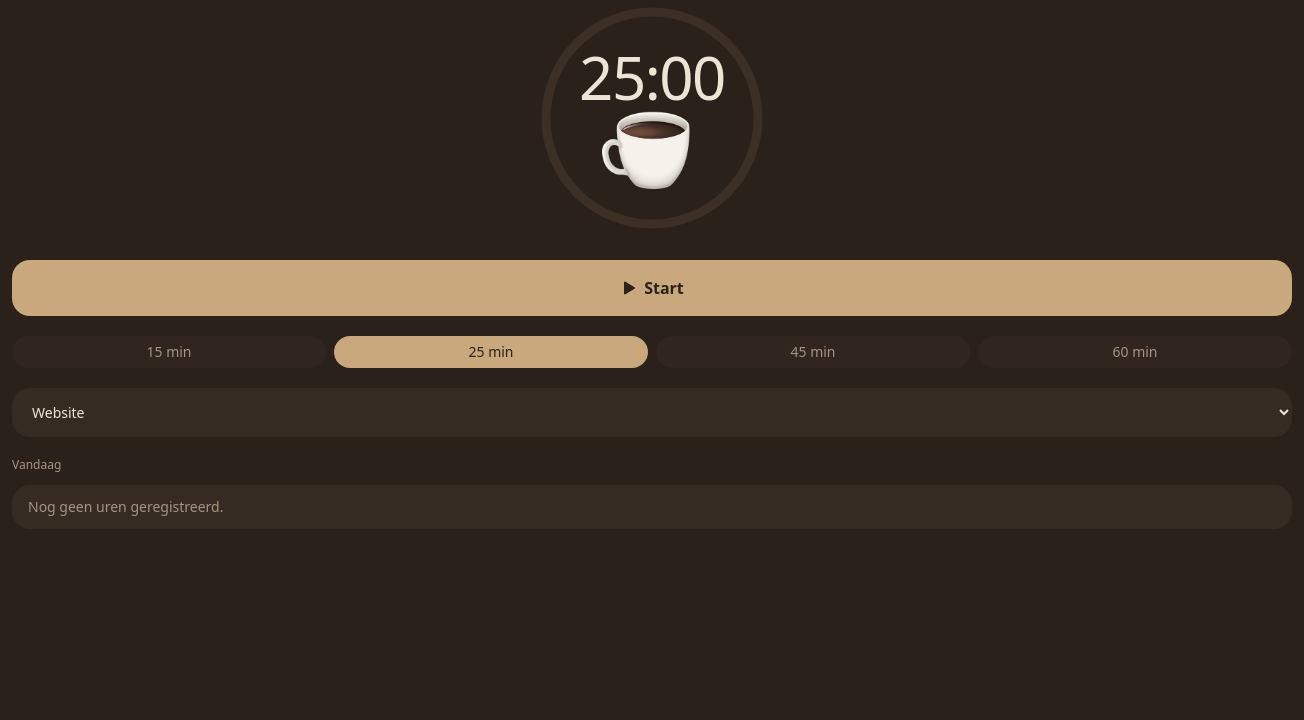
Test: stopping a block by hand › says what it is about to log, and has not logged it yet
This screenshot has width=1304, height=720.
Click the button "Start". click: {"x": 652, "y": 288}
box: [12,260,1292,316]
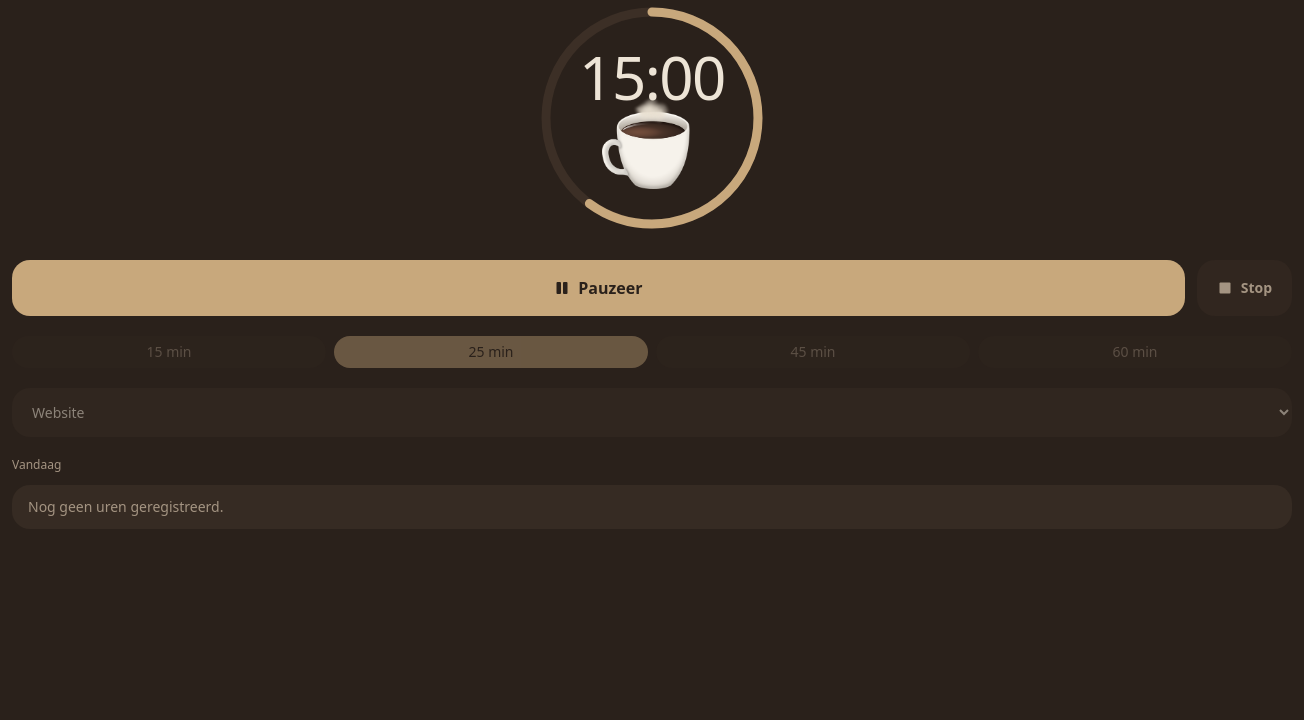
Click the button "Stop". click: {"x": 1244, "y": 288}
box: [1197,260,1292,316]
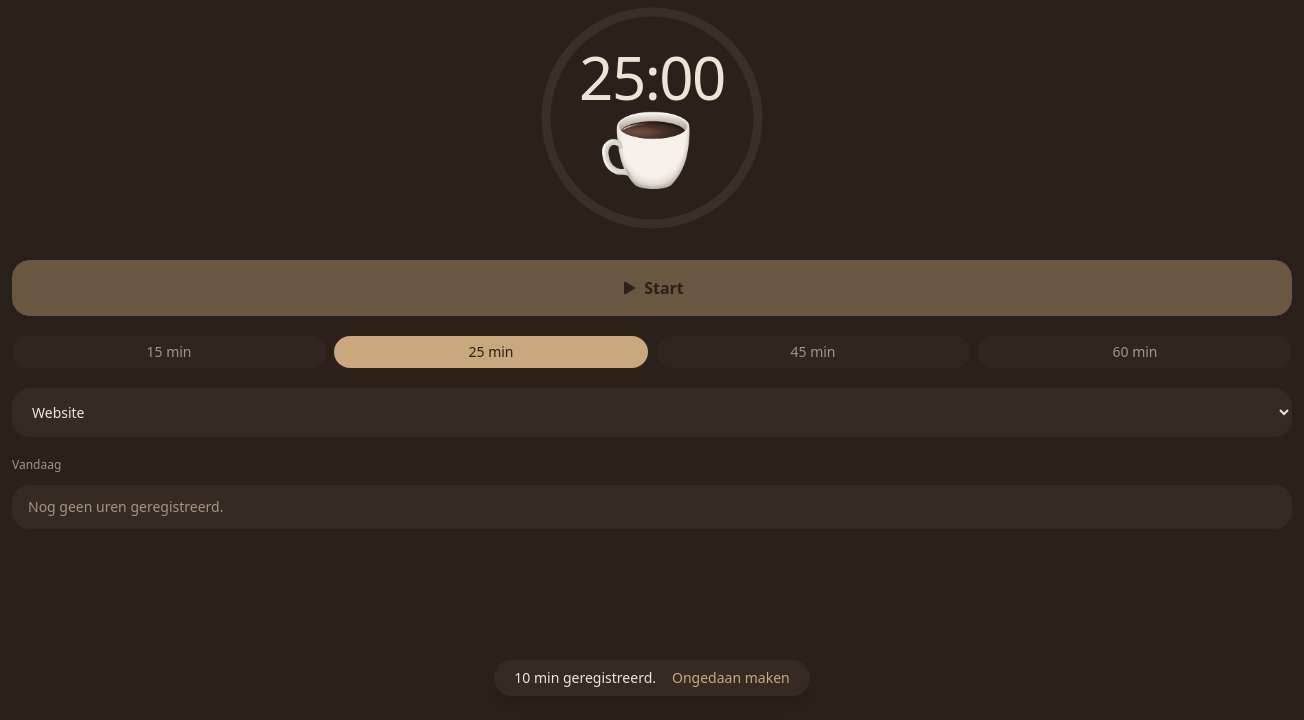
expect the text "10 min geregistreerd." is shown: met, box [514,668,656,688]
